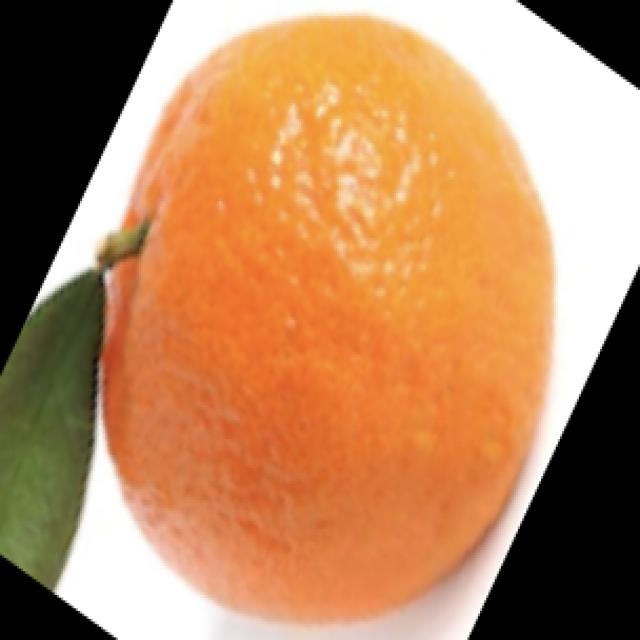fresh: (3, 6, 566, 633)
